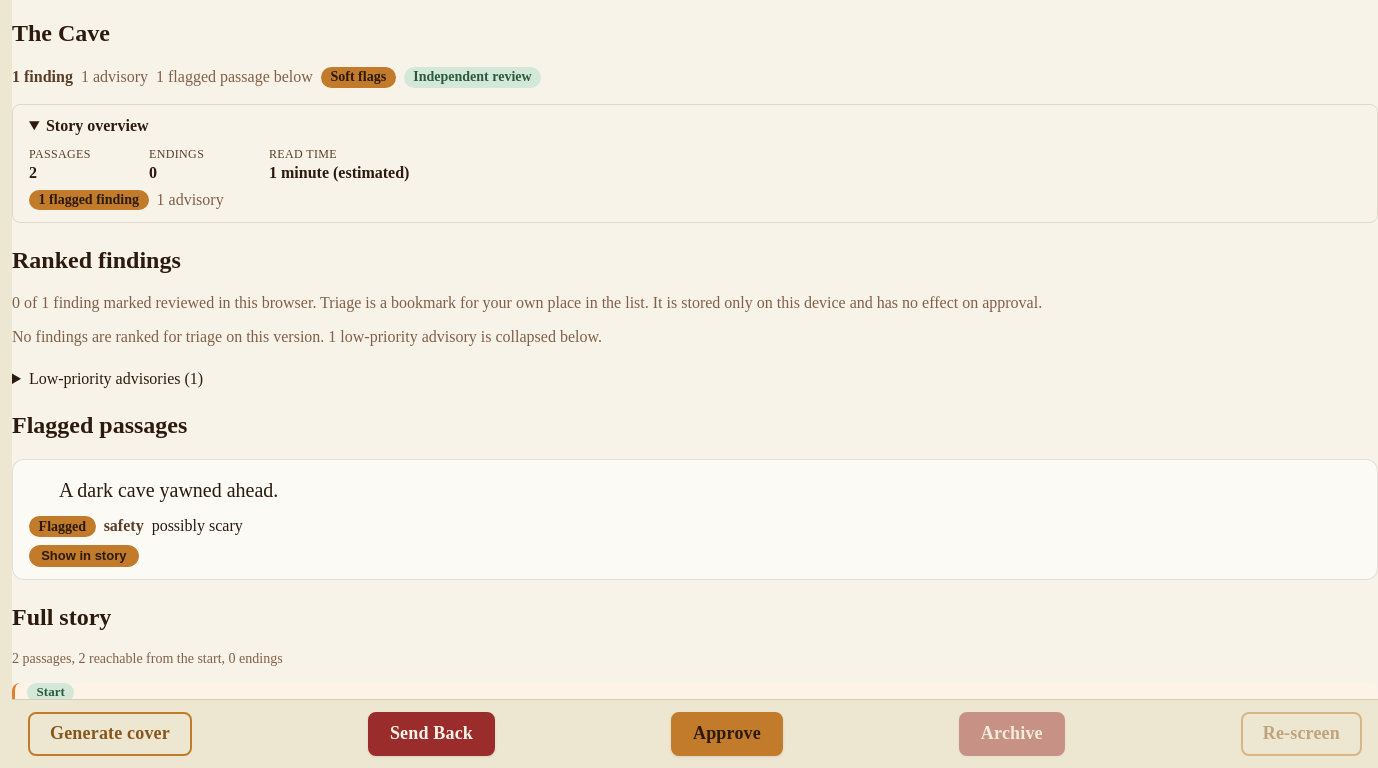
Scenario: ReviewDetailPage › Stage B3 decision surfaces (design doc 2.6) › collapses low-priority advisories behind a toggle
Click the heading "Low-priority advisories (1)": (116, 379) [29,370,203,387]
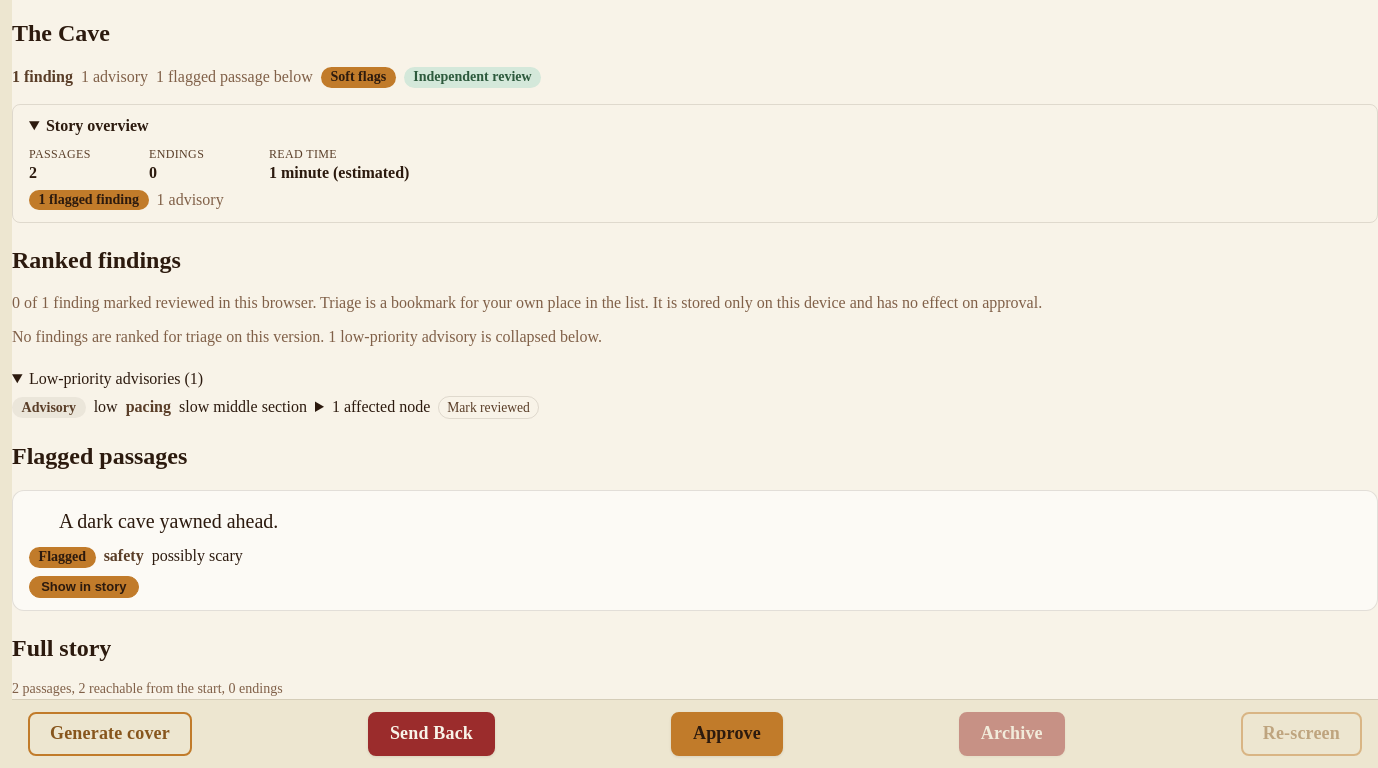
expect the text "slow middle section" is shown: met, box [179,398,307,416]
